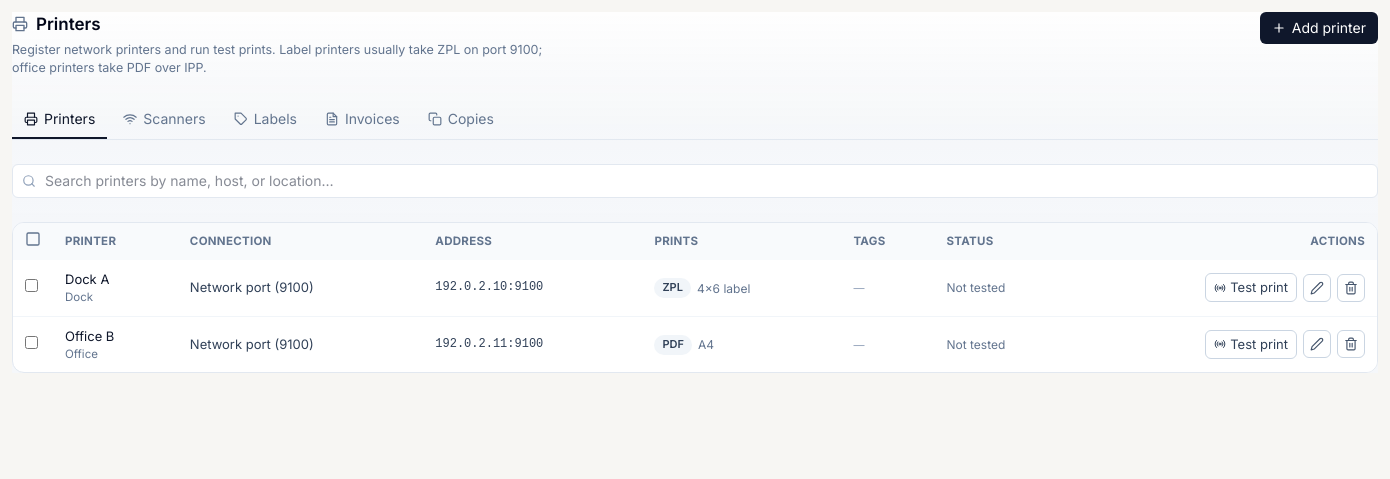
Test: PrintersPage — selection follows the search (BUG-126) › a printer hidden by the search leaves the count and comes back when the search clears
Click the checkbox named "Select Dock A".
click(32, 286)  # box [25,280,38,292]
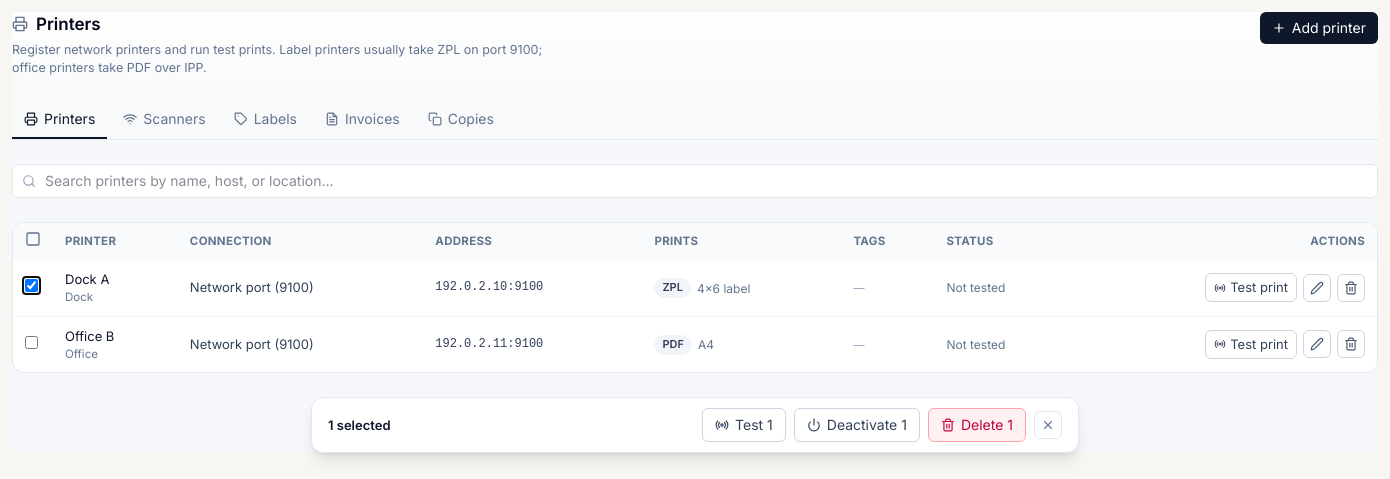
Click the checkbox named "Select Office B".
click(32, 342)  # box [25,336,38,349]
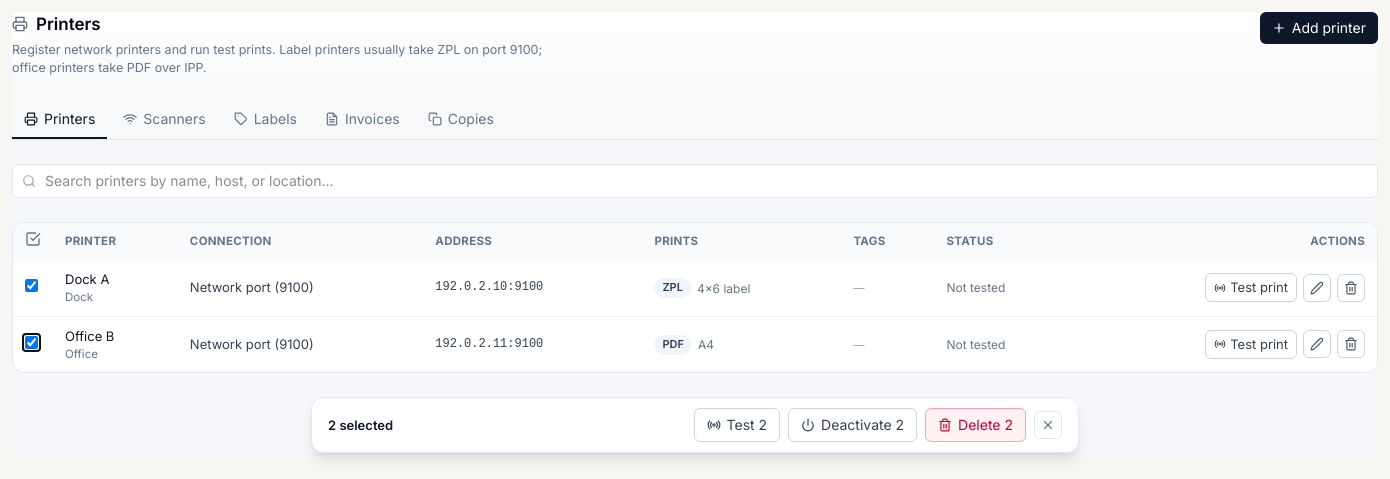
Check: the text "2 selected" is shown, box [328,416,393,435]
Type "Office" into the search field with placeholder "Search printers by name, host, or location…".
click(695, 181); type("Office")  # box [12,164,1378,198]
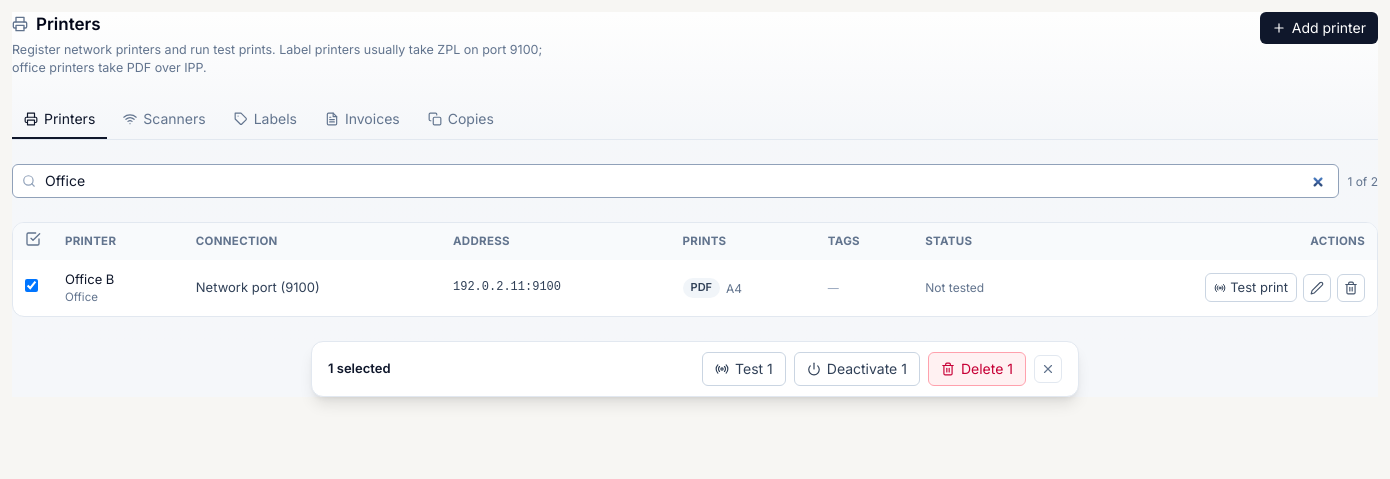
Check: the text "1 selected" is shown, box [328,359,390,378]
Check: the button "Delete 1" is shown, box [928,352,1026,386]
Clear the search field with placeholder "Search printers by name, host, or location…" at (676, 181), box [12,164,1339,198]
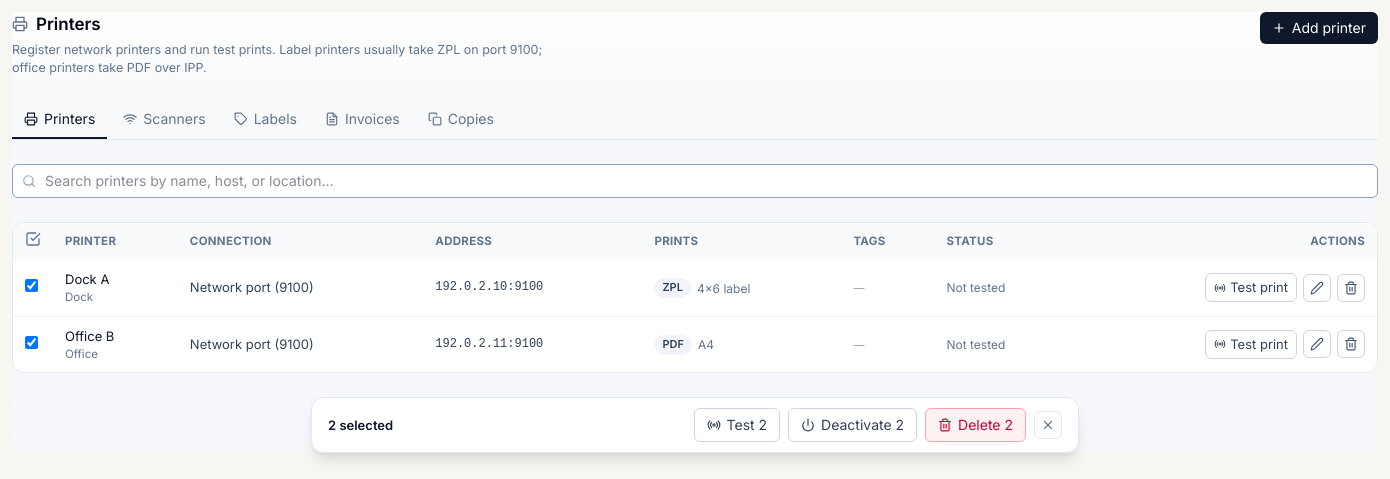
Check: the text "2 selected" is shown, box [328,416,393,435]
